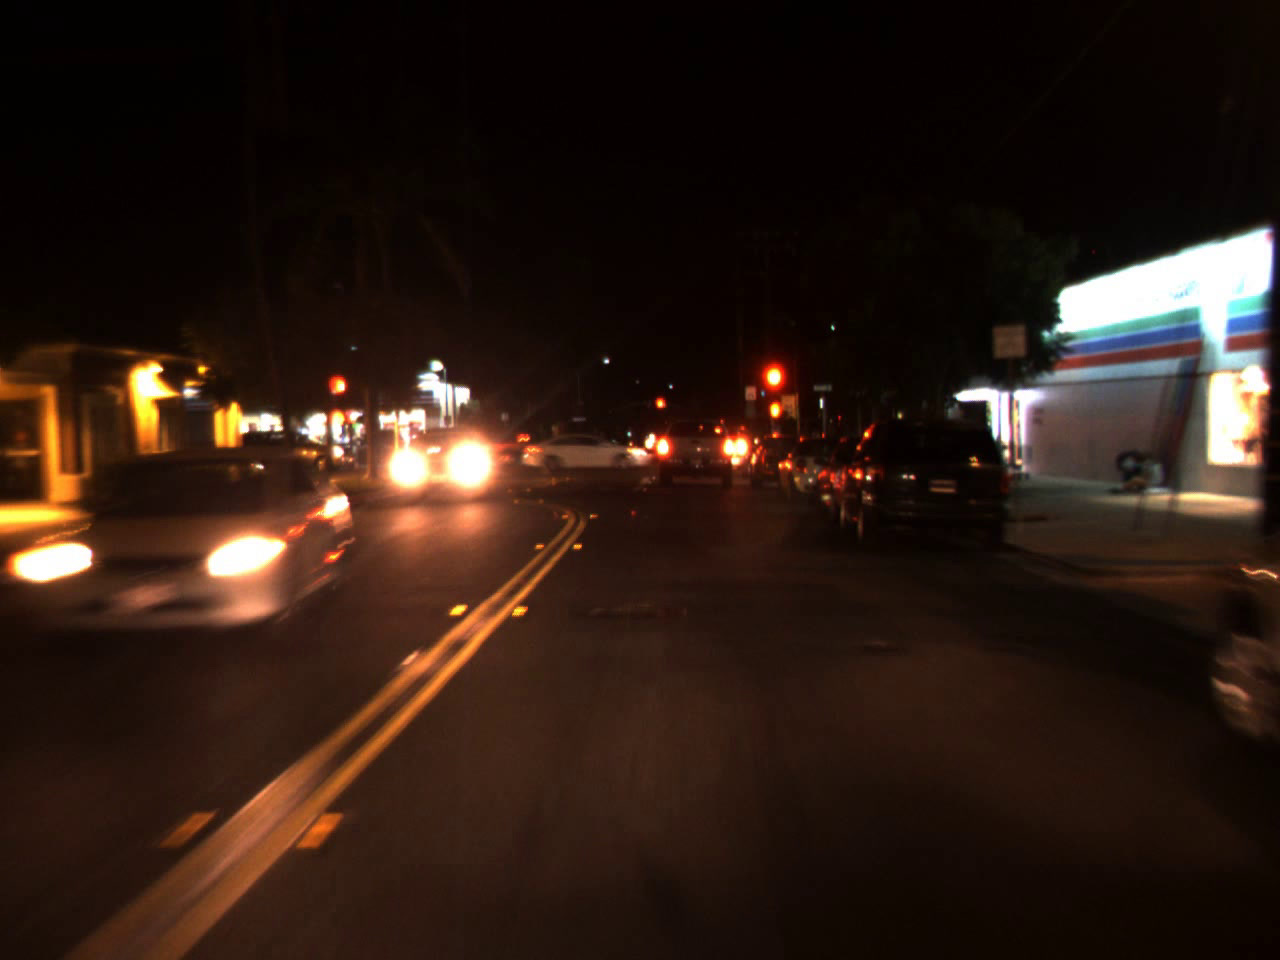stop: (756, 357, 792, 427), (326, 372, 350, 415), (653, 395, 666, 422)
